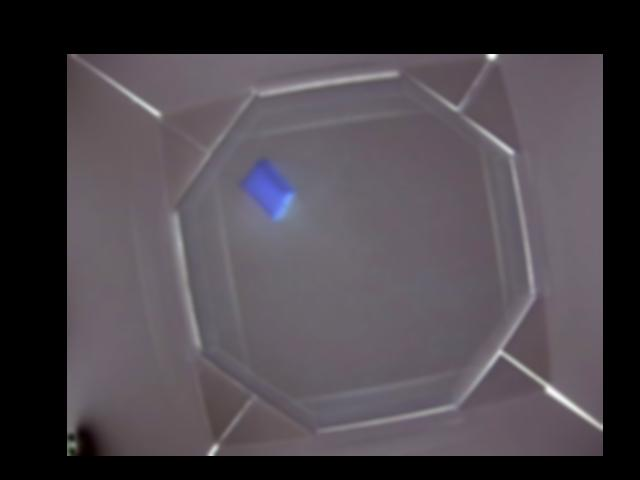Potato: (242, 160, 294, 218)
